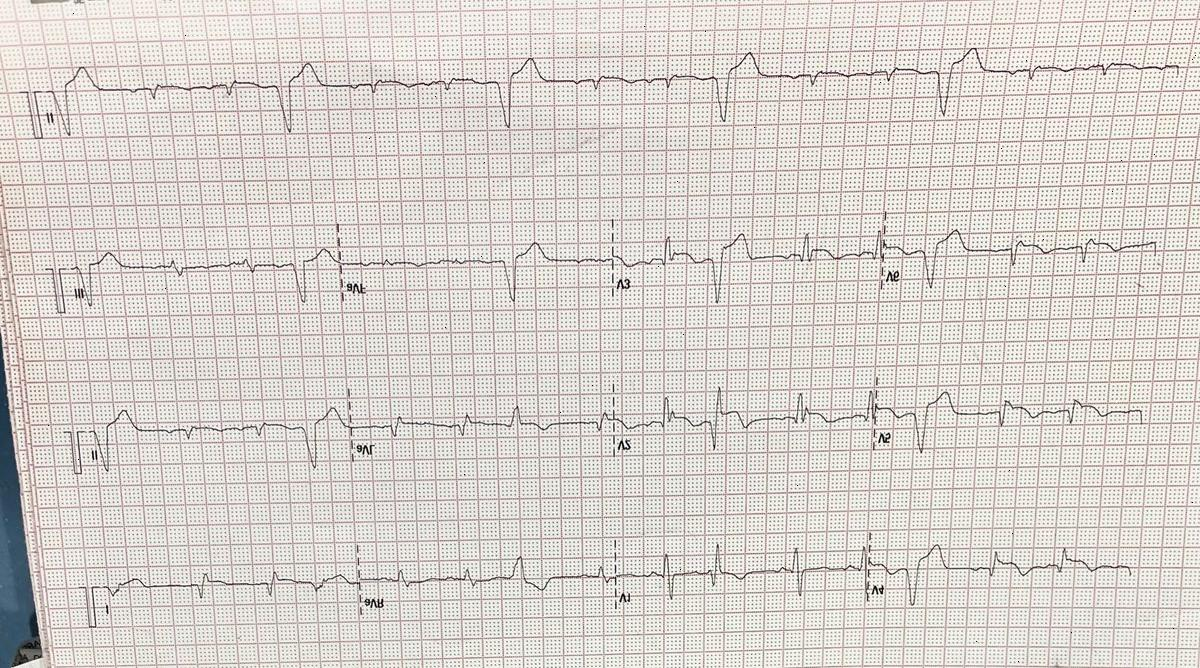Lead_I: (95, 542, 360, 630)
Lead_II: (81, 382, 349, 483)
Lead_III: (66, 218, 340, 316)
Lead_II_ext: (39, 33, 1185, 152)
Lead_V1: (618, 523, 865, 628)
Lead_V2: (614, 376, 876, 474)
Lead_V3: (614, 200, 886, 314)
Lead_V4: (866, 528, 1134, 618)
Lead_V5: (875, 376, 1150, 462)
Lead_V6: (883, 216, 1166, 309)
Lead_aVF: (341, 209, 614, 320)
Lead_aVL: (350, 378, 613, 476)
Lead_aVR: (358, 546, 616, 626)
